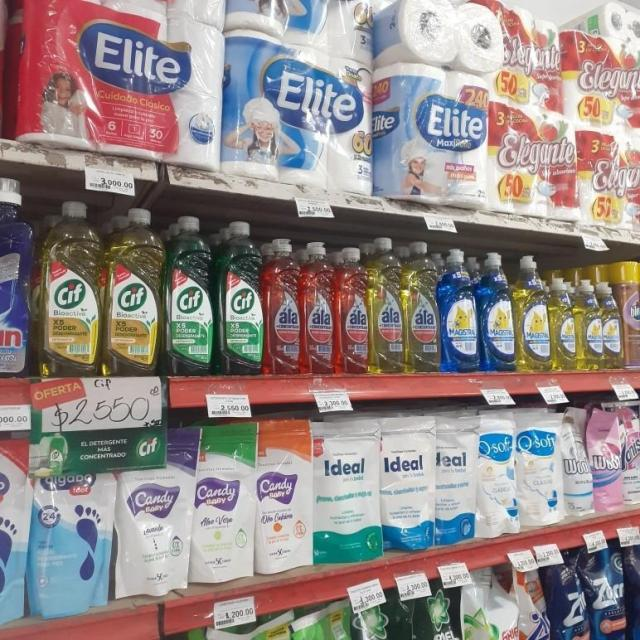ala_conc_amarillo: (369, 235, 404, 374), (404, 239, 440, 373)
ala_conc_azul: (591, 544, 628, 640), (628, 539, 640, 640)
ala_conc_rojo: (264, 236, 301, 376), (302, 240, 336, 376), (336, 244, 369, 376)
ala_crem_rosado: (0, 0, 9, 141)
cif_conc_bot_amarilla: (40, 200, 101, 377), (105, 206, 162, 376)
cif_conc_botella_verde: (165, 214, 216, 376), (217, 219, 264, 376)
cif_conc_sachet_amarillo: (252, 612, 294, 640)
magistral_con_amarillo: (516, 254, 550, 373), (577, 278, 602, 371), (552, 277, 576, 371), (602, 282, 622, 369)
magistral_con_azul: (441, 247, 478, 373), (480, 250, 514, 372)
